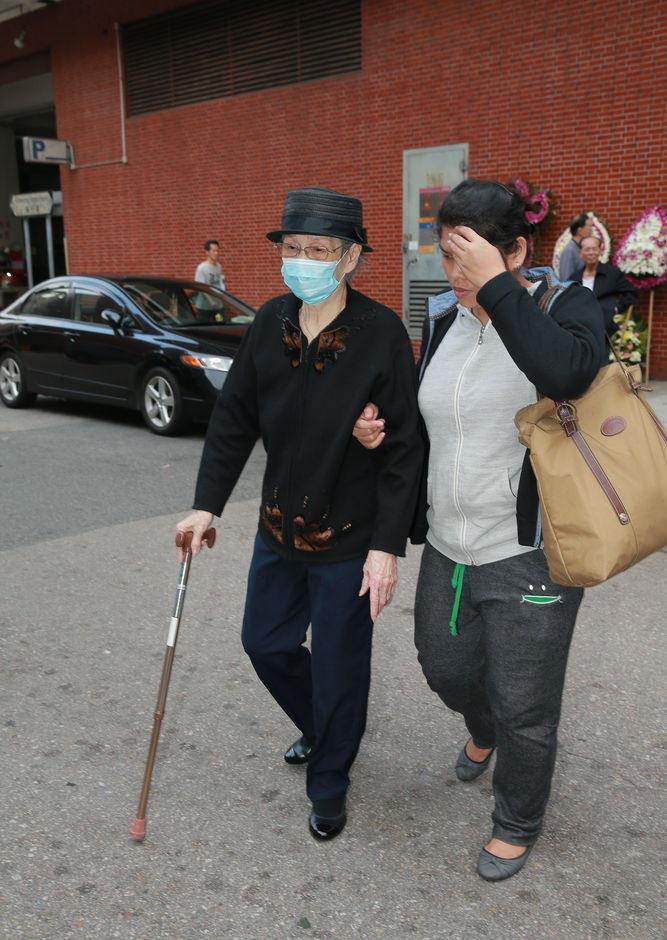NONE: (441, 231, 505, 304), (582, 241, 602, 264), (578, 220, 594, 240), (208, 244, 219, 260)
OK: (282, 235, 345, 299)
